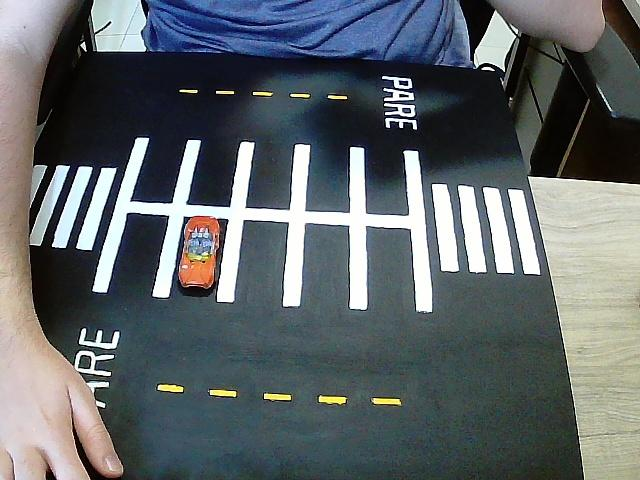Carro: (179, 217, 220, 290)
